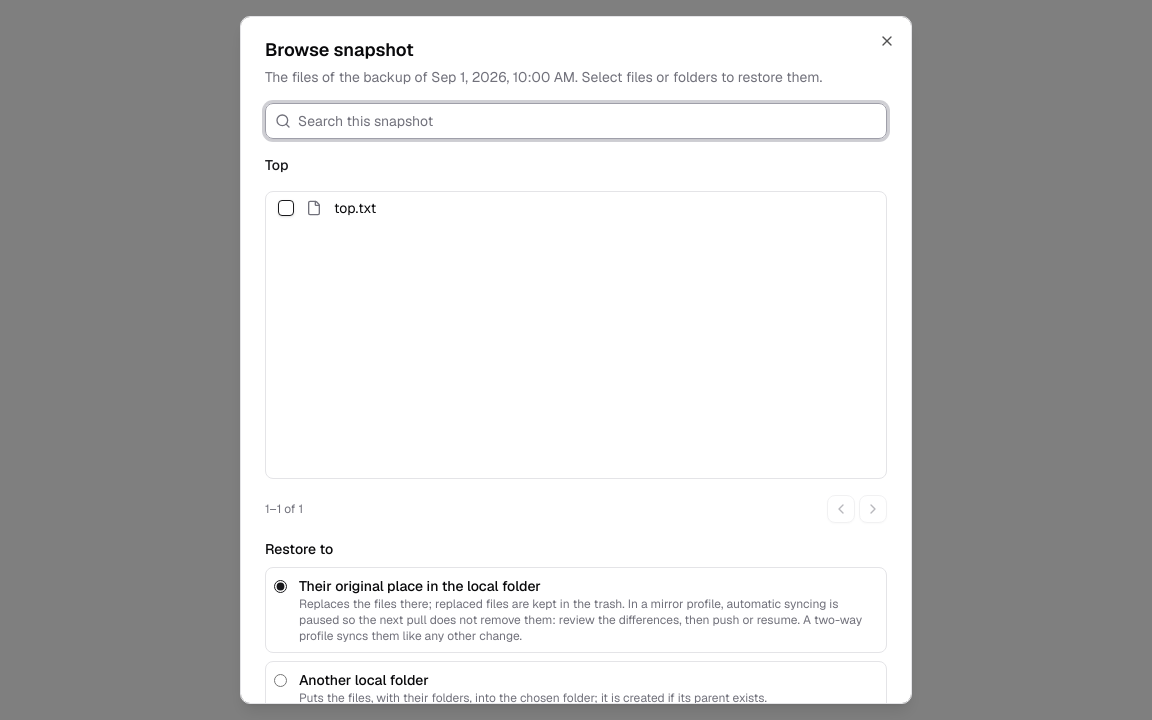
Scenario: SnapshotBrowser selection and restore › picks the destination folder with the folder browser
Click the checkbox named "Select top.txt": [286, 208] box [278,200,294,216]
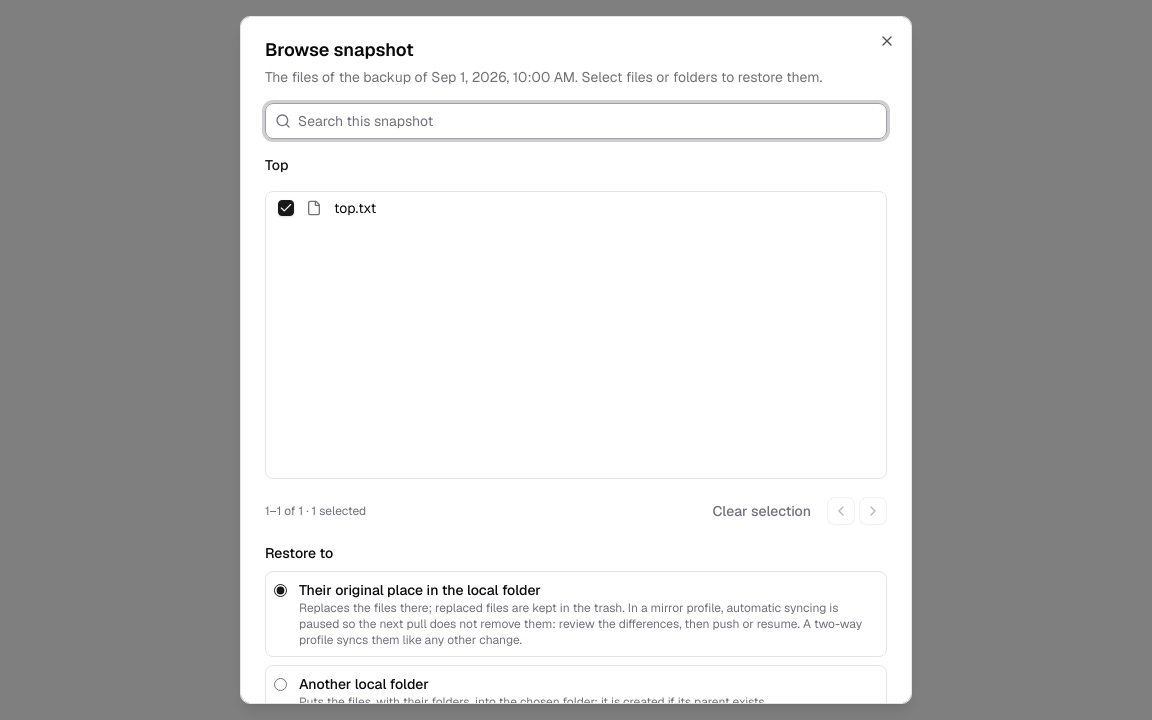
Click the radio button labelled "Another local folder": [280, 684] box [274,678,287,691]
(page scrolled)
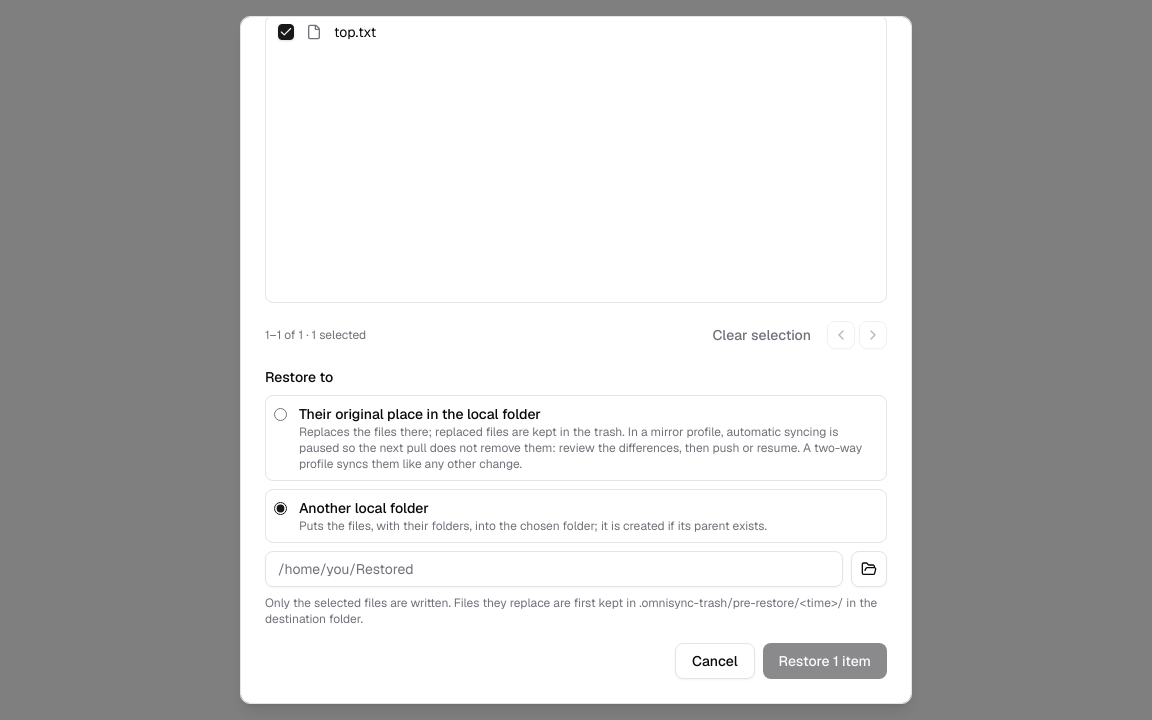
Click the button named "Choose the folder": [869, 569] box [851,551,887,587]
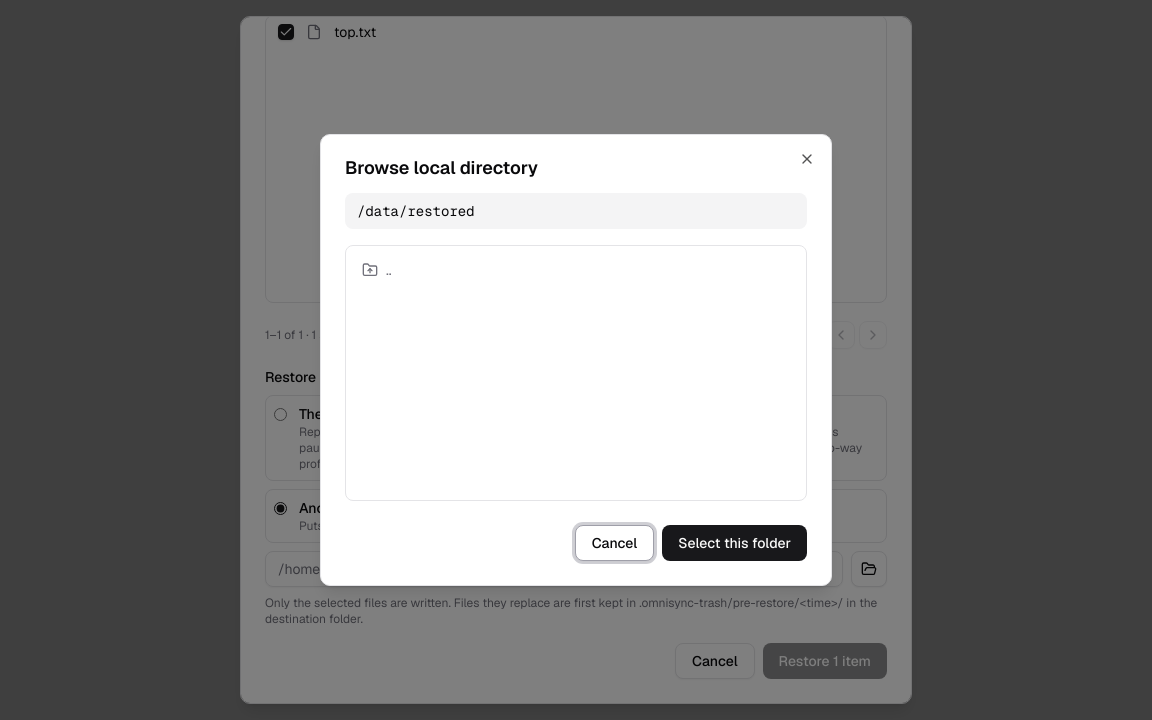
Result: the text "/data/restored" is shown at [345,193,807,229]
Click the button "Select this folder": [735, 543] box [662,525,807,561]
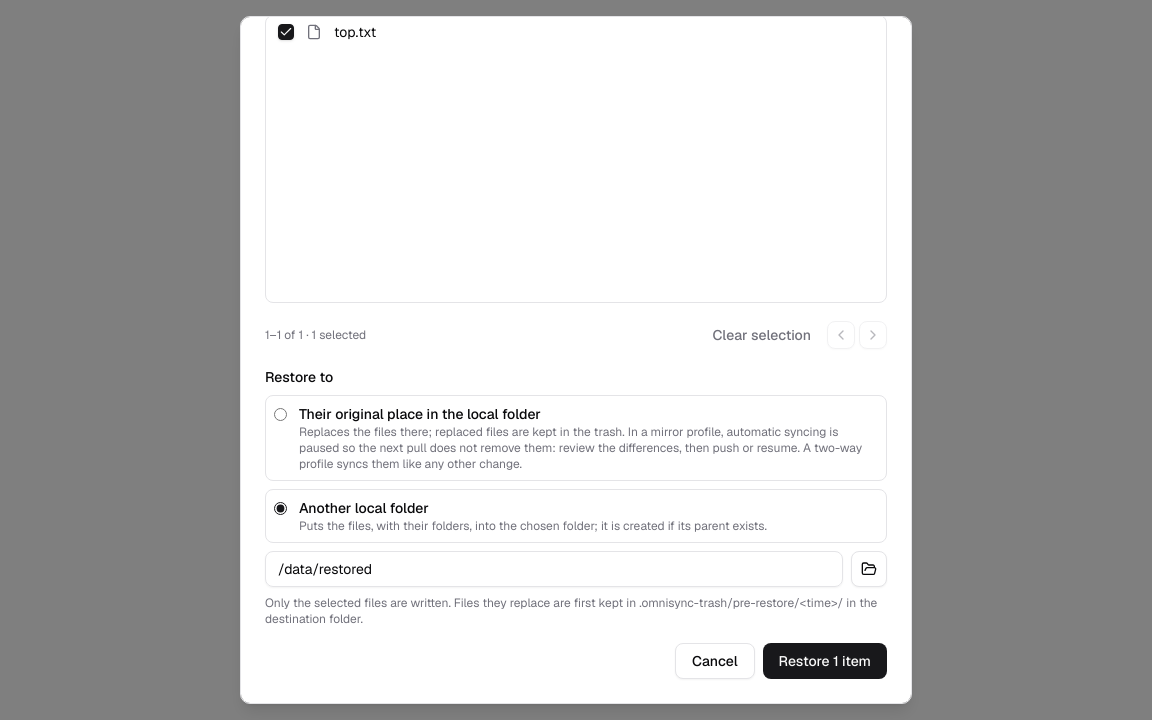
Result: the heading "Browse local directory" is gone
Result: the field named "Another local folder" holds "/data/restored" at [265,551,843,587]
Result: the button "Restore 1 item" is enabled at [763,643,887,679]
